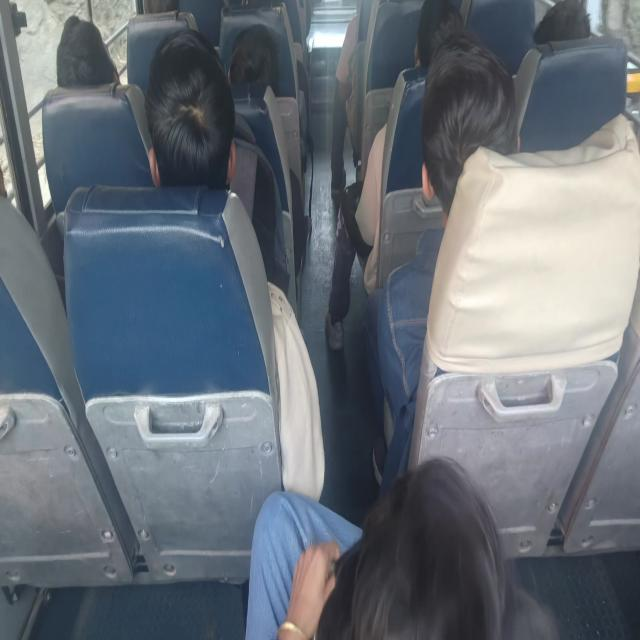person: (144, 28, 325, 500), (362, 31, 520, 492), (245, 456, 556, 638), (324, 1, 464, 351), (144, 28, 291, 297), (329, 0, 424, 206), (144, 29, 237, 189), (330, 11, 359, 207), (56, 14, 121, 87), (227, 23, 279, 92), (532, 0, 590, 44)
